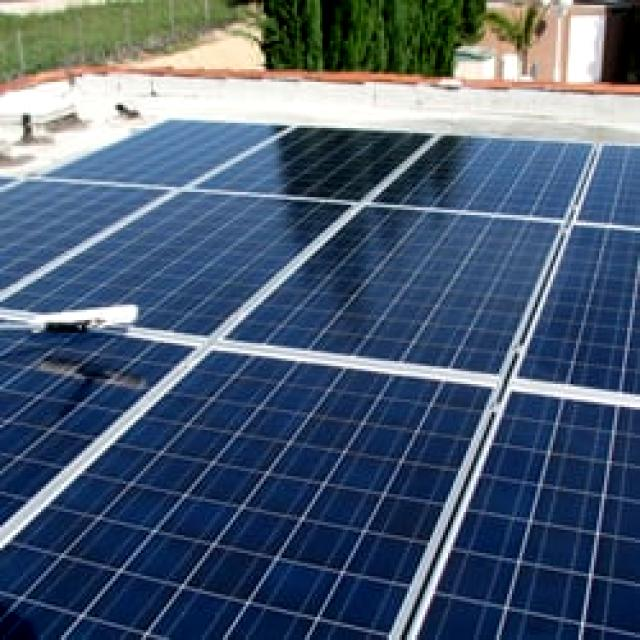crack: (293, 212, 553, 393), (363, 124, 622, 258)
